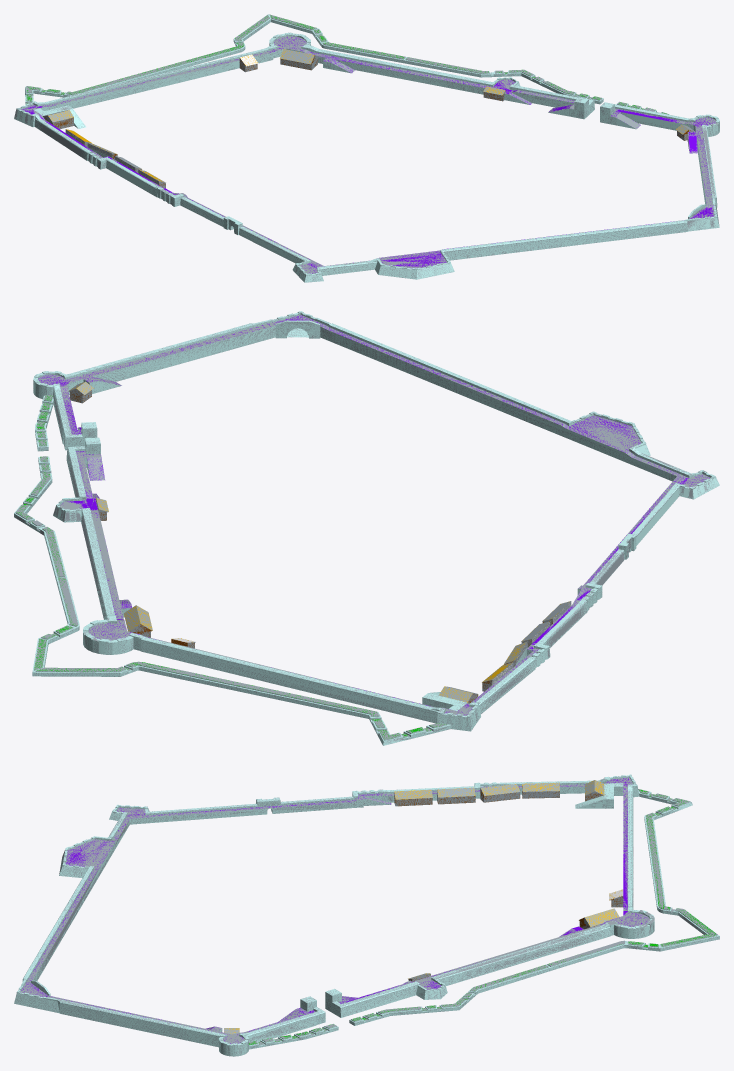
The model's file is FORTIFIED2.fbx.
3 views of the same model, one above another, from view 1: azimuth 30°, elevation 25°; view 2: azimuth 150°, elevation 25°; view 3: azimuth 270°, elevation 25° (orthographic). The views are drawn at different scales.
Visible parts, largest first — view 1: Model; view 2: Model; view 3: Model.
Part boxes in pixels (x1=…): Model: x1=14, y1=14, x2=719, y2=282; Model: x1=14, y1=311, x2=719, y2=745; Model: x1=14, y1=774, x2=719, y2=1056.
Bounding box in the file's own units: 447762 × 13103 × 491490.
